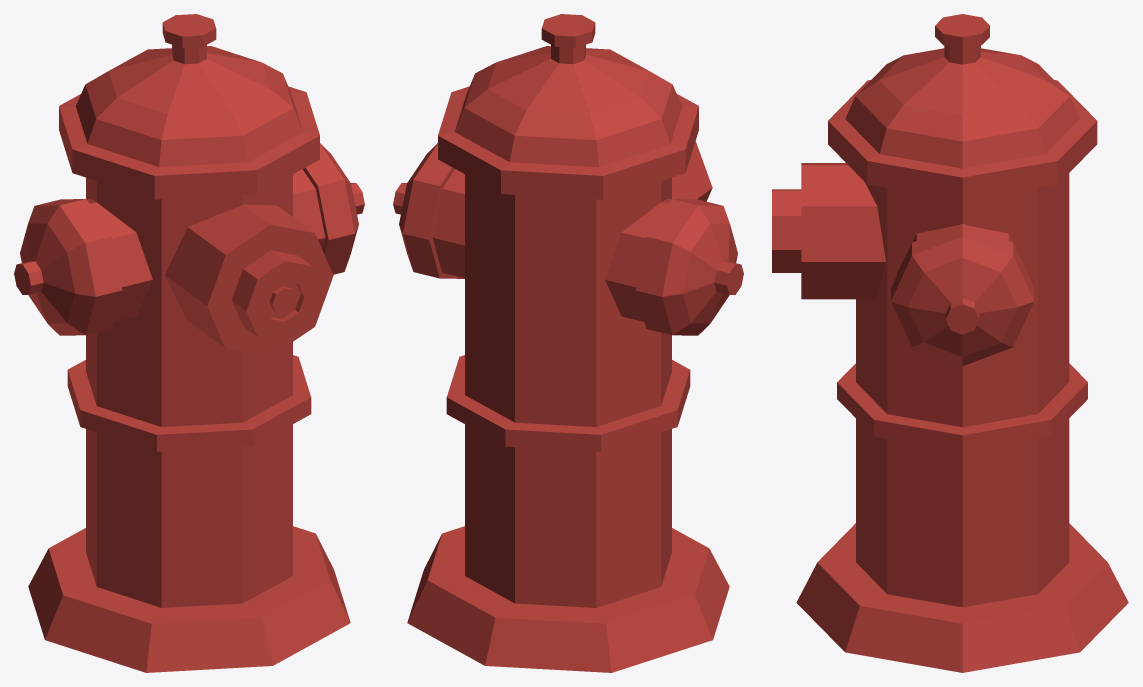
Rendered from Hydrant.fbx.
3 views of the same model, side by side, from view 1: azimuth 30°, elevation 25°; view 2: azimuth 150°, elevation 25°; view 3: azimuth 270°, elevation 25° (orthographic).
Visible parts, largest first — view 1: Hydrant; view 2: Hydrant; view 3: Hydrant.
Boxes of the visible parts, x1,y1,x2,y2 form: Hydrant: (14, 14, 364, 672); Hydrant: (393, 14, 743, 672); Hydrant: (772, 14, 1128, 672).
Bounding box in the file's own units: 44.33 × 73.5 × 41.18.
